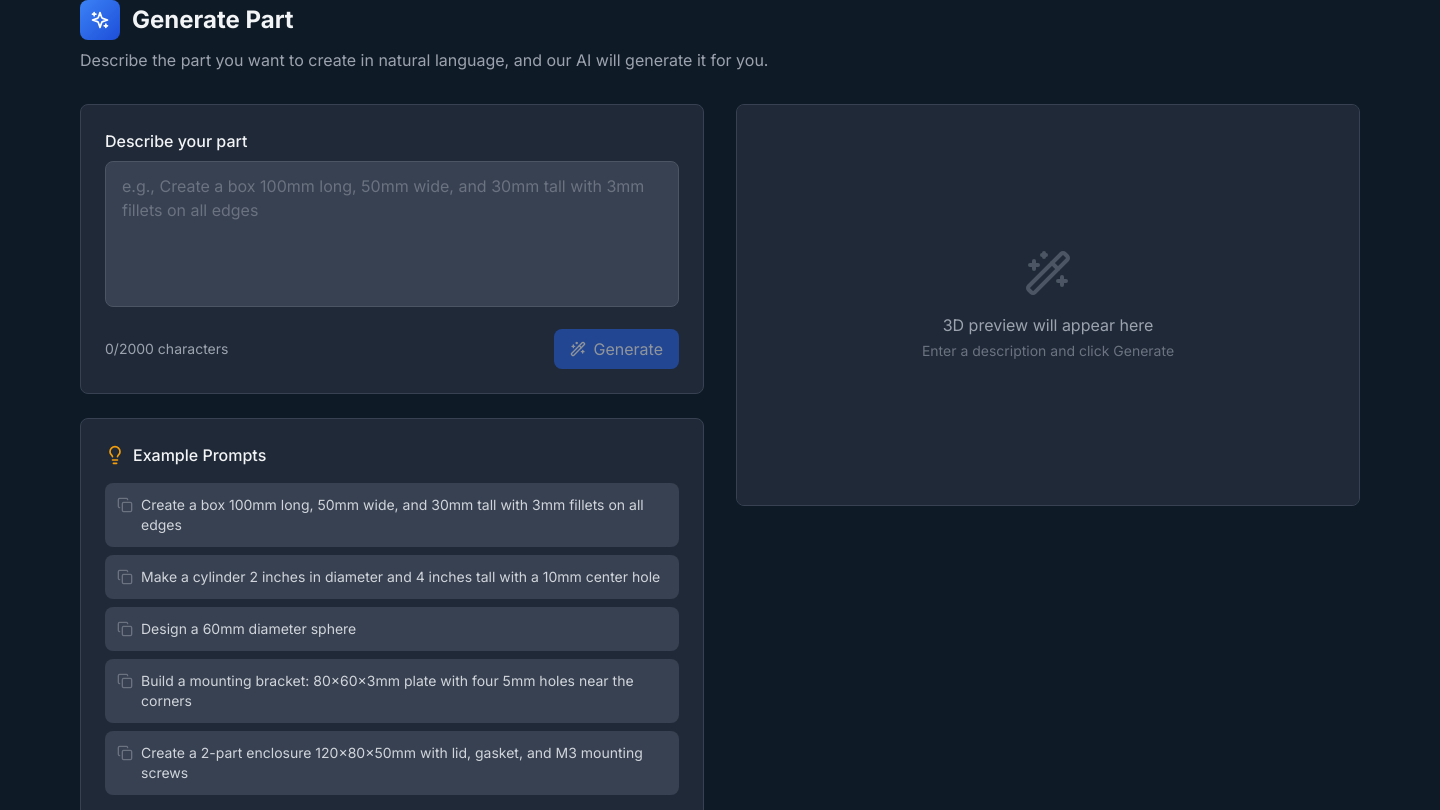
Test: GeneratePage › clears description on reset
Type "Create a box" into the text box.
click(392, 234); type("Create a box")  # box [105, 161, 679, 307]
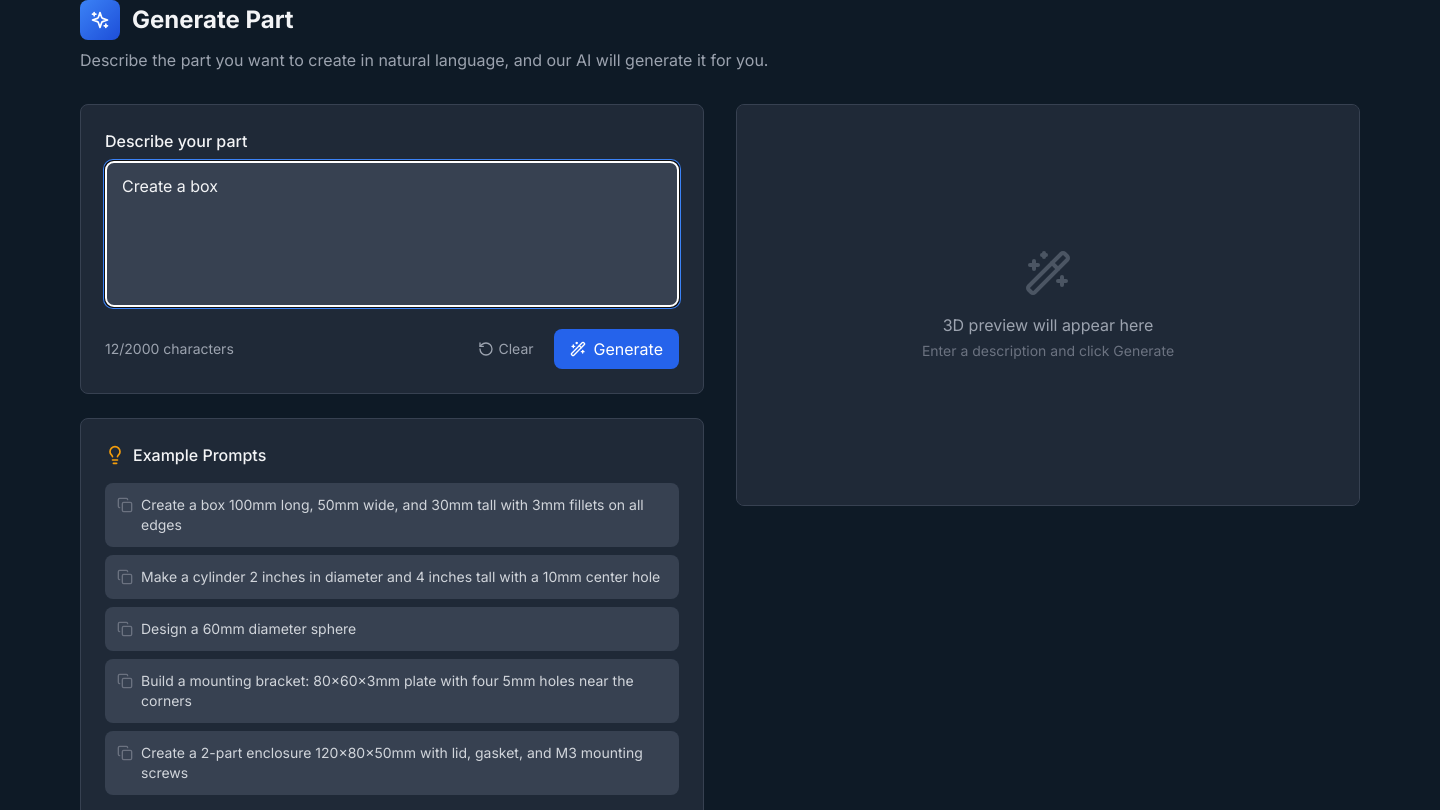
Click the button "Clear".
click(506, 349)  # box [466, 333, 546, 365]
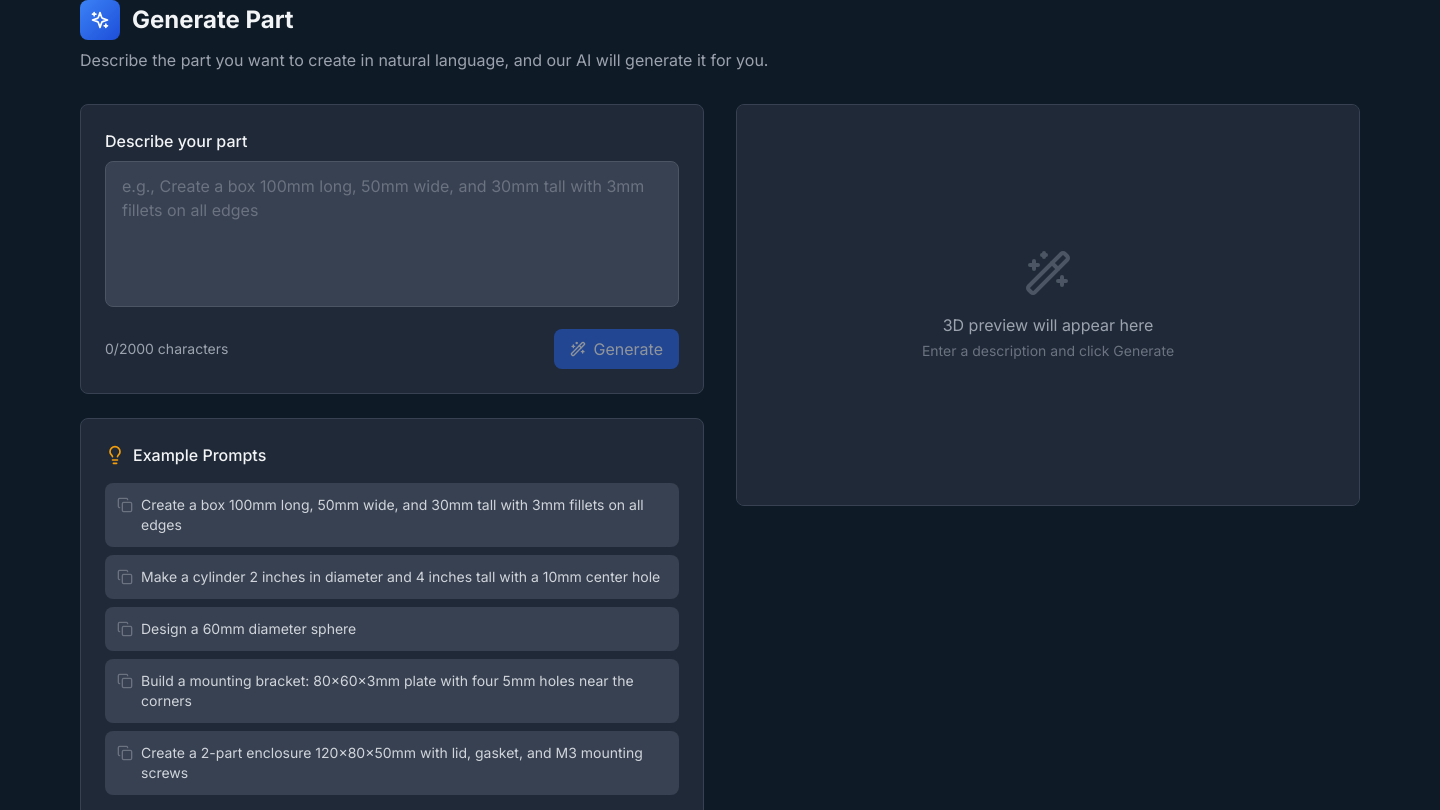
Now the text box is empty, box [105, 161, 679, 307]
